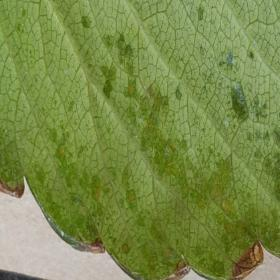Angular Leafspot: (0, 4, 279, 279)
